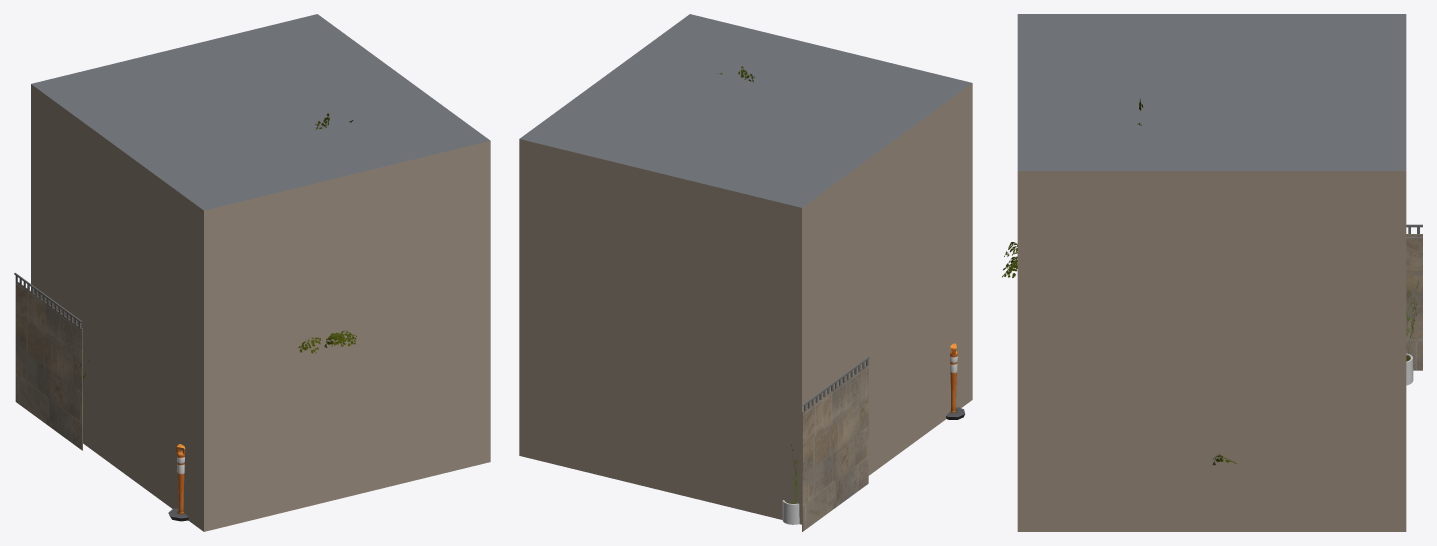
The model's file is bldg_08_corner_bistro.glb.
3 views of the same model, side by side, from view 1: azimuth 30°, elevation 25°; view 2: azimuth 150°, elevation 25°; view 3: azimuth 270°, elevation 25° (orthographic). The views are drawn at different scales.
Visible parts, largest first — view 1: bldg_08_corner_bistro; view 2: bldg_08_corner_bistro; view 3: bldg_08_corner_bistro.
Part boxes in pixels (x1,y1,x2,y2): bldg_08_corner_bistro: [14, 14, 490, 531]; bldg_08_corner_bistro: [519, 14, 972, 531]; bldg_08_corner_bistro: [1002, 14, 1422, 531].
Bounding box in the file's own units: 5.38 × 5.54 × 5.61.
Materials: 8 (6 with a texture image).
